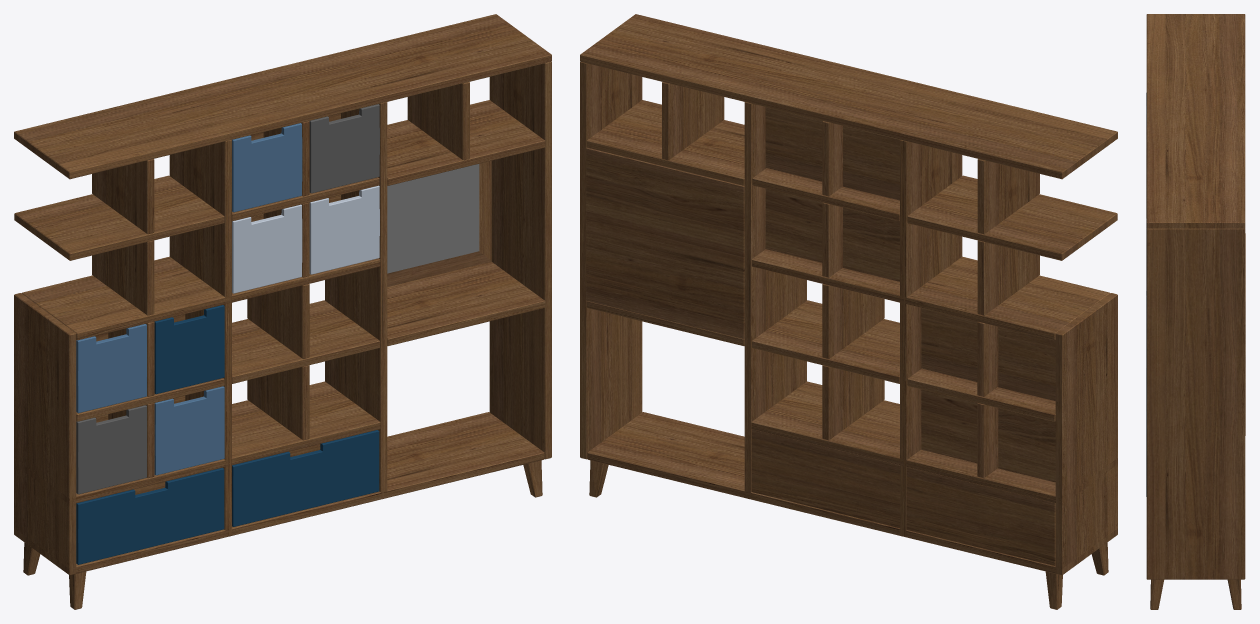
File: wooden-rack-by-volodymyr-shyshov-dcjkb_jTZXF.glb
The picture shows the model from 3 angles, left to right: view 1: azimuth 30°, elevation 25°; view 2: azimuth 150°, elevation 25°; view 3: azimuth 270°, elevation 25°; orthographic projection. The views are drawn at different scales.
Parts seen in each view (by area): view 1: Box008; view 2: Box008; view 3: Box008.
Part boxes in pixels (x1,y1,x2,y2): Box008: (14, 14, 551, 609); Box008: (580, 14, 1117, 609); Box008: (1146, 14, 1245, 609).
Bounding box in the file's own units: 2 × 1.75 × 0.4018.
6 materials, 1 textured.
